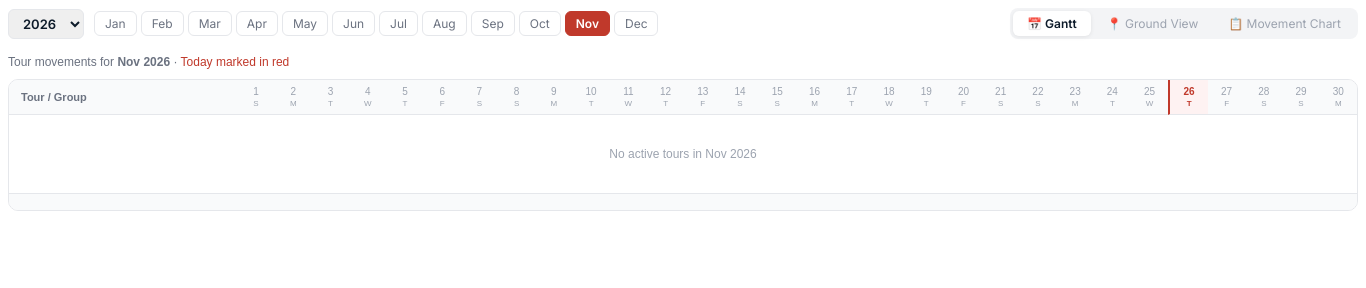
Ground View shows Tour Info by date › a day with two hotels lists both
Click the button "📍 Ground View" at (1152, 24), box [1093, 11, 1212, 36]
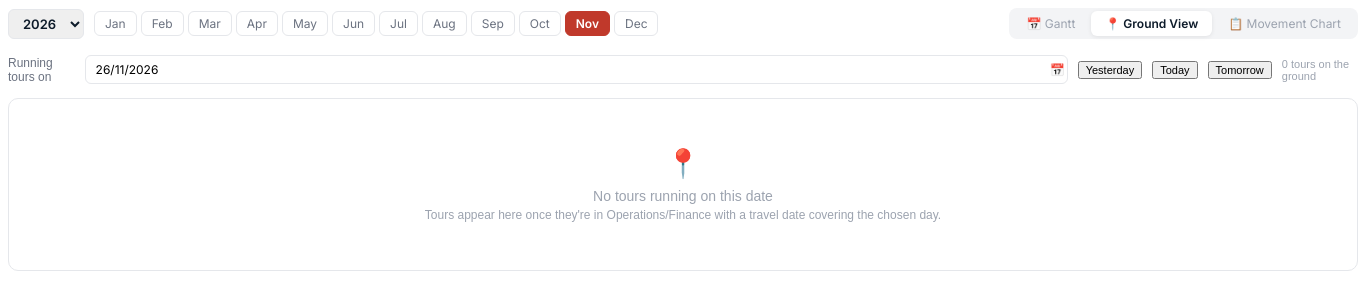
Type "2026-10-02" into the date field labelled "📅" at (576, 70), box [85, 55, 1068, 84]
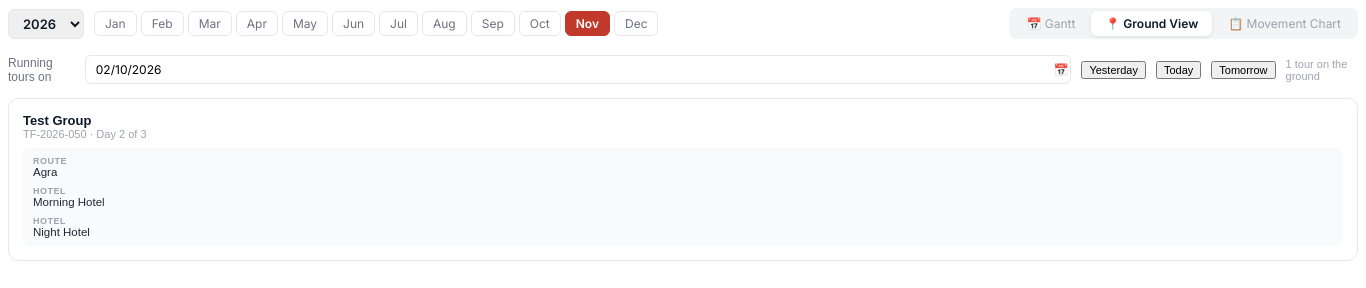
Result: the number of elements with test id "ground-hotel" is 2 at [33, 186, 105, 208]; [33, 216, 90, 238]
